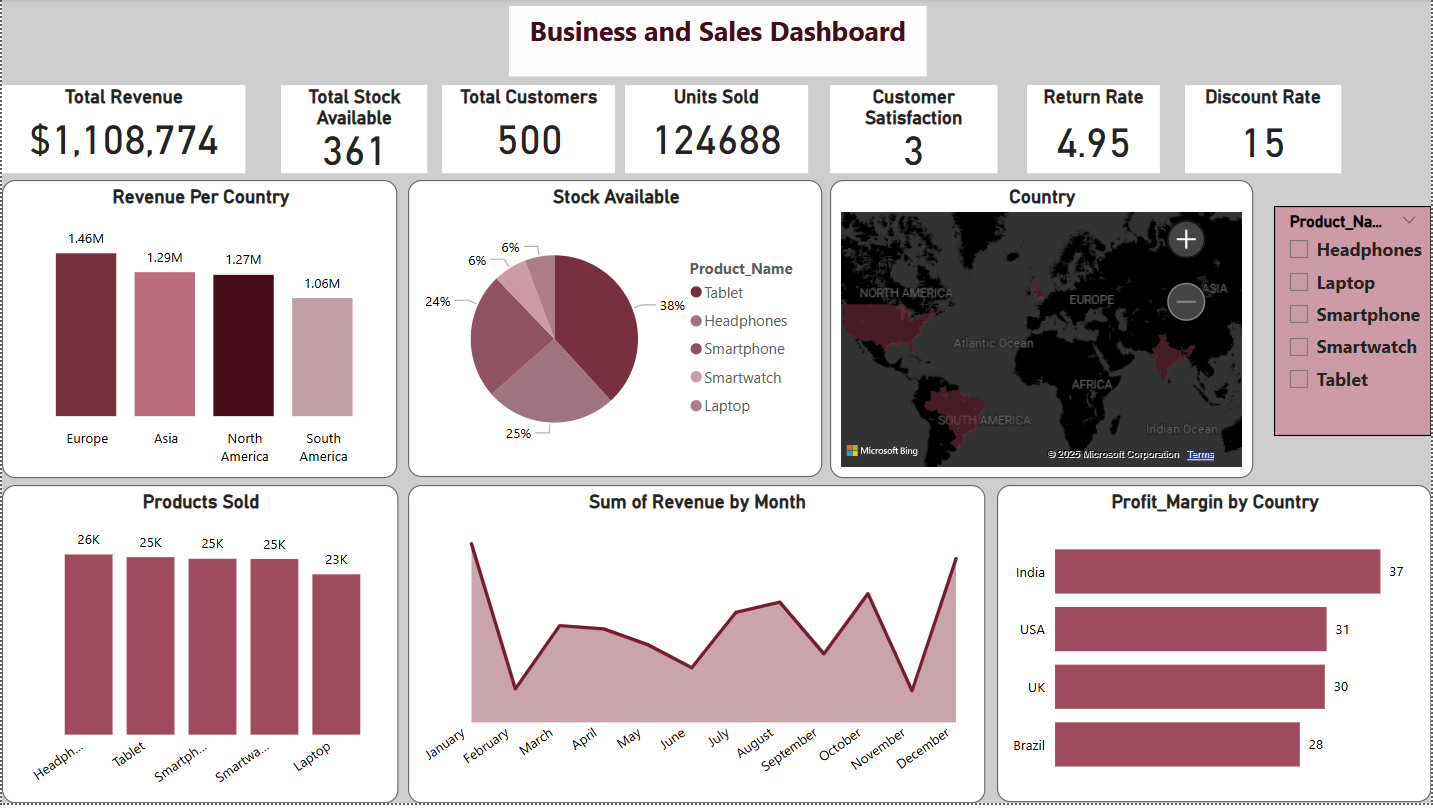

This screenshot's page, from the dashboard's own definition file:
{"tool":"powerbi","page":{"name":"Page 1","canvas":[1280,720],"ordinal":0},"visuals":[{"type":"clusteredColumnChart","title":"Products Sold","fields":{"Y":["Sum(sales_data.Units_Sold)"],"Category":["sales_data.Product"]},"box":[0,435.6,354.5,284.5],"z":0},{"type":"clusteredBarChart","title":"Profit_Margin by Country","fields":{"Category":["regions.Country"],"Y":["Sum(sales_data.Profit_Margin)"]},"box":[891.3,435.1,388.7,284.4],"z":1000},{"type":"pieChart","title":"Stock Available","fields":{"Category":["products.Product_Name"],"Y":["products.Stock_By_Product"]},"box":[363.7,162,371.1,265.6],"z":2000},{"type":"stackedAreaChart","fields":{"Y":["Sum(transactions.Revenue)"],"Category":["transactions.Sale_Date.Variation.Date Hierarchy.Month"]},"box":[363.7,435.6,516.6,284.5],"z":3000},{"type":"kpi","title":"Total Stock Available","fields":{"Indicator":["products.Stock_By_Product"],"TrendLine":["products.Product_Name"]},"box":[249.9,76.8,131.4,78.7],"z":4000},{"type":"kpi","title":"Total Revenue","fields":{"TrendLine":["sales_data.Product"],"Indicator":["sales_data.total revenue"]},"box":[0,76.8,218.4,78.7],"z":5000},{"type":"kpi","title":"Total Customers","fields":{"TrendLine":["sales_data.Product"],"Indicator":["transactions.total customer"]},"box":[394.3,76.8,155.5,78.7],"z":7000},{"type":"kpi","title":"Units Sold","fields":{"Indicator":["Sum(transactions.Units_Sold)"],"TrendLine":["sales_data.Product"]},"box":[558.1,76.8,163.8,78.7],"z":8000},{"type":"kpi","title":"Customer Satisfaction","fields":{"TrendLine":["sales_data.Product"],"Indicator":["sales_data.Overall_Satisfaction"]},"box":[741.3,76.8,149.9,78.7],"z":9000},{"type":"clusteredColumnChart","title":"Revenue Per Country","fields":{"Y":["sales_data.Revenue_Per_Country"],"Category":["regions.Region_Name"]},"box":[0,162,354.5,267.5],"z":10000},{"type":"slicer","fields":{"Values":["products.Product_Name"]},"box":[1138.8,185.4,141.2,206.5],"z":11000},{"type":"card","title":"Return Rate","fields":{"Values":["sales_data.Return_Rate_Percentage"]},"box":[918.1,76.8,119.4,78.7],"z":12000},{"type":"card","title":"Discount Rate","fields":{"Values":["sales_data.Avg_Discount_Percentage"]},"box":[1059.7,76.8,139.8,78.7],"z":13000},{"type":"textbox","box":[454.4,6.5,373.9,62.9],"z":14001},{"type":"filledMap","title":"Country","fields":{"Category":["regions.Country"]},"box":[741.3,162,378.5,267.5],"z":14002}]}

Visuals, with their boxes in screenshot pixels (x1, y1, x2, y2), scaled from the page's 1280x720 canvas onto the 1433x808 screenshot:
"Products Sold" clusteredColumnChart: [0,489,397,807]
"Profit_Margin by Country" clusteredBarChart: [998,488,1432,807]
"Stock Available" pieChart: [407,182,823,480]
stackedAreaChart - Sum(transactions.Revenue) x transactions.Sale_Date.Variation.Date Hierarchy.Month: [407,489,986,807]
"Total Stock Available" kpi: [280,86,427,175]
"Total Revenue" kpi: [0,86,245,175]
"Total Customers" kpi: [441,86,616,175]
"Units Sold" kpi: [625,86,808,175]
"Customer Satisfaction" kpi: [830,86,998,175]
"Revenue Per Country" clusteredColumnChart: [0,182,397,482]
slicer - products.Product_Name: [1275,208,1432,440]
"Return Rate" card: [1028,86,1162,175]
"Discount Rate" card: [1186,86,1343,175]
textbox: [509,7,927,78]
"Country" filledMap: [830,182,1254,482]
